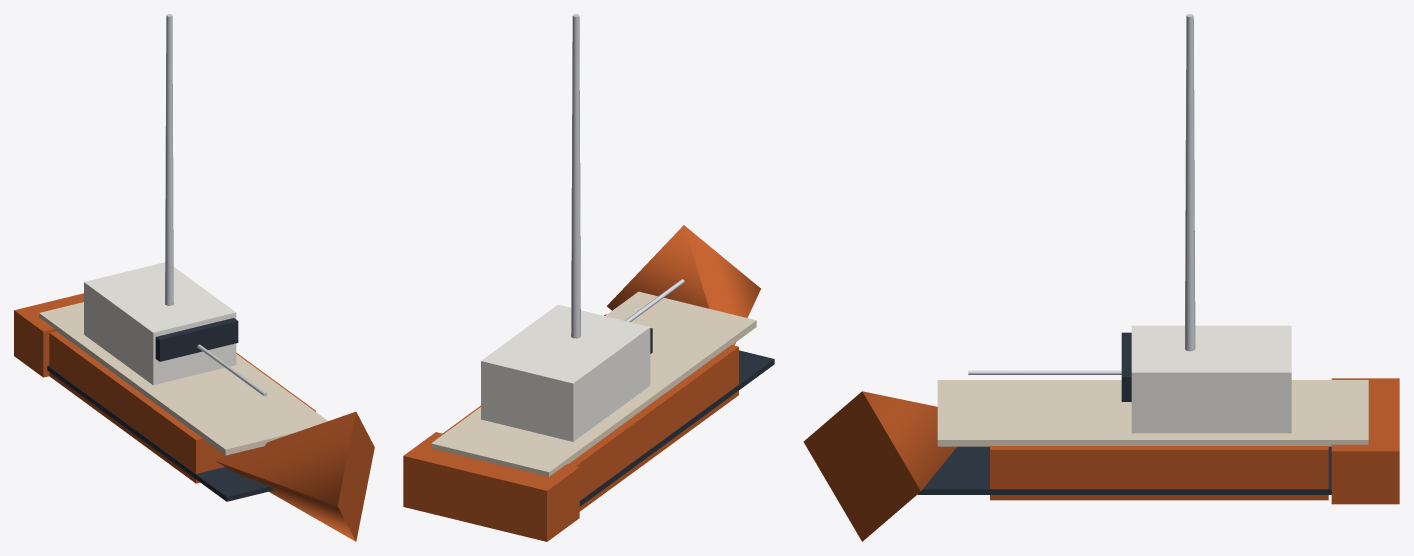
Rendered from boat.glb.
3 views of the same model, side by side, from view 1: azimuth 30°, elevation 25°; view 2: azimuth 150°, elevation 25°; view 3: azimuth 270°, elevation 25° (orthographic). The views are drawn at different scales.
Visible parts, largest first — view 1: boatVisual; view 2: boatVisual; view 3: boatVisual.
Boxes of the visible parts, x1=… form: boatVisual: x1=14, y1=14, x2=374, y2=541; boatVisual: x1=403, y1=14, x2=774, y2=541; boatVisual: x1=803, y1=14, x2=1399, y2=541.
Bounding box in the file's own units: 6.65 × 17.95 × 19.35.
